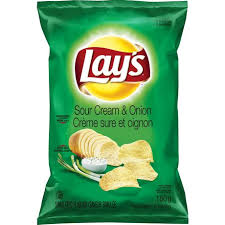lays-med: (36, 1, 191, 223)
